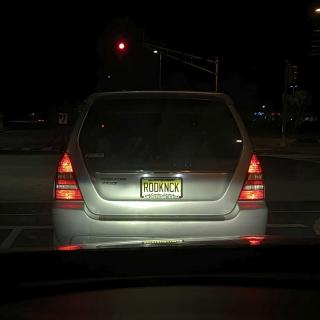license: (141, 178, 184, 200)
